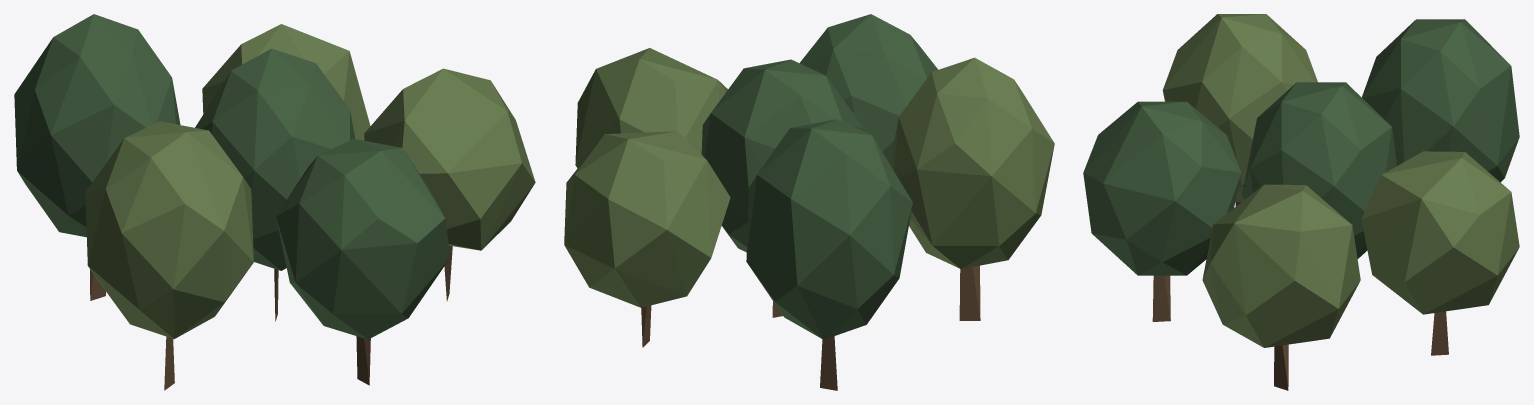
The picture shows the model from 3 angles, left to right: view 1: azimuth 30°, elevation 25°; view 2: azimuth 150°, elevation 25°; view 3: azimuth 270°, elevation 25°; orthographic projection. The views are drawn at different scales.
Visible parts, largest first — view 1: trunk.006; view 2: trunk.006; view 3: trunk.006.
Boxes of the visible parts, x1,y1,x2,y2 form: trunk.006: (14, 14, 535, 390); trunk.006: (564, 14, 1054, 390); trunk.006: (1083, 14, 1519, 390).
Size of the model in its own units: 11.98 by 6.99 by 10.98.
